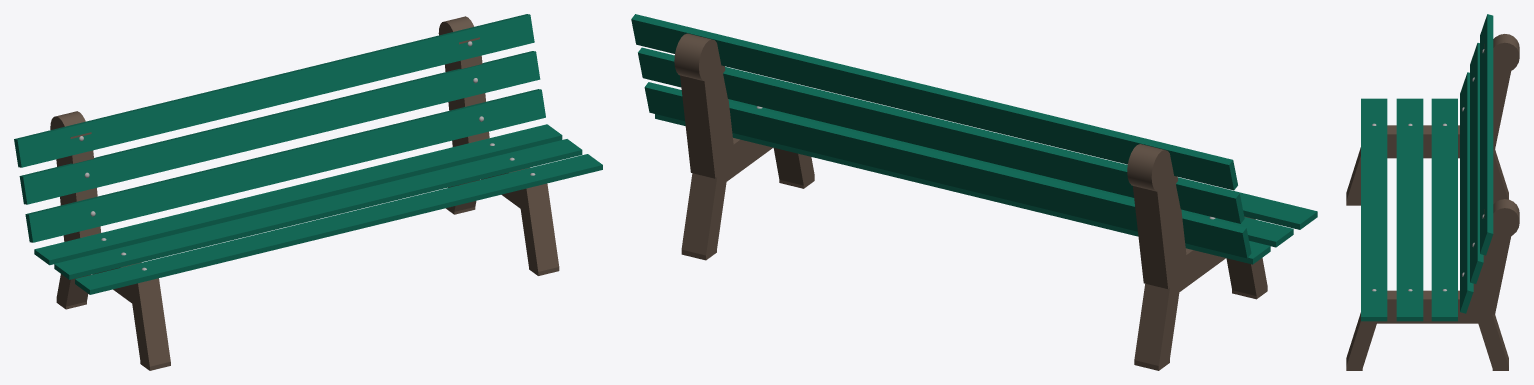
The model's file is SteelBench.fbx.
3 views of the same model, side by side, from view 1: azimuth 30°, elevation 25°; view 2: azimuth 150°, elevation 25°; view 3: azimuth 270°, elevation 25° (orthographic). The views are drawn at different scales.
Visible parts, largest first — view 1: pCube3, pCube2, pCube1, Middle, Front, Back, Front.002, Front.001, Back_Support_Right, Back_Support_Left, Back.001; view 2: pCube1, pCube3, pCube2, Back_Support_Left, Back_Support_Right, Back, Back.001, Back.002, Front, Middle, Rounded_Top, Rounded_Top1 (+4 smaller); view 3: Middle, Front, Back, pCube1, pCube3, pCube2, Back_Support_Left, Top.001, Back.002, Front.002, Rounded_Top1, Rounded_Top (+4 smaller).
Boxes of the visible parts, x1,y1,x2,y2 form: pCube3: (25, 89, 545, 242); pCube2: (19, 51, 540, 204); pCube1: (14, 14, 534, 167); Middle: (54, 139, 582, 279); Front: (75, 154, 602, 294); Back: (34, 124, 562, 265); Front.002: (518, 183, 559, 271); Front.001: (132, 278, 170, 366); Back_Support_Right: (56, 132, 101, 241); Back_Support_Left: (445, 37, 489, 146); Back.001: (56, 274, 91, 307); pCube1: (631, 14, 1237, 190); pCube3: (644, 82, 1251, 258); pCube2: (638, 47, 1244, 223); Back_Support_Left: (680, 49, 734, 178); Back_Support_Right: (1133, 161, 1187, 288); Back: (655, 114, 1270, 264); Back.001: (1134, 282, 1179, 365); Back.002: (681, 173, 726, 255); Front: (725, 67, 1317, 229); Middle: (728, 99, 1293, 247); Rounded_Top: (1127, 144, 1171, 191); Rounded_Top1: (674, 33, 717, 81); Middle: (1396, 98, 1423, 321); Front: (1361, 98, 1387, 321); Back: (1431, 98, 1457, 321); pCube1: (1480, 14, 1493, 255); pCube3: (1460, 72, 1473, 313); pCube2: (1470, 43, 1483, 283); Back_Support_Left: (1471, 209, 1513, 314); Top.001: (1367, 290, 1487, 323); Back.002: (1472, 300, 1508, 369); Front.002: (1346, 312, 1377, 367); Rounded_Top1: (1493, 199, 1519, 237); Rounded_Top: (1493, 34, 1519, 72).
Size of the model in its own units: 215 by 74.81 by 72.18.
